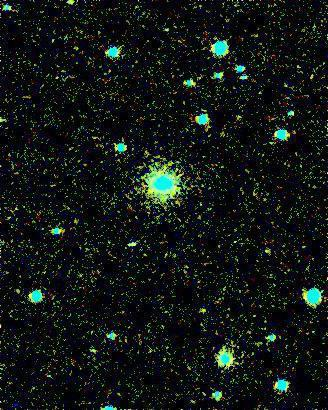star: (184, 292, 214, 322)
